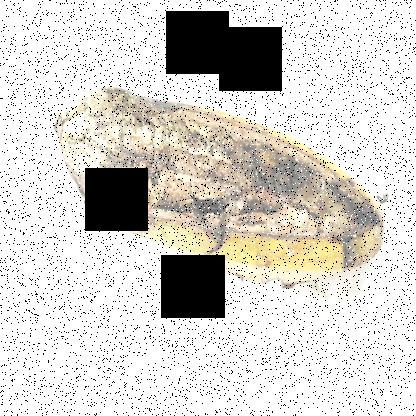rotten: (49, 75, 416, 298)
